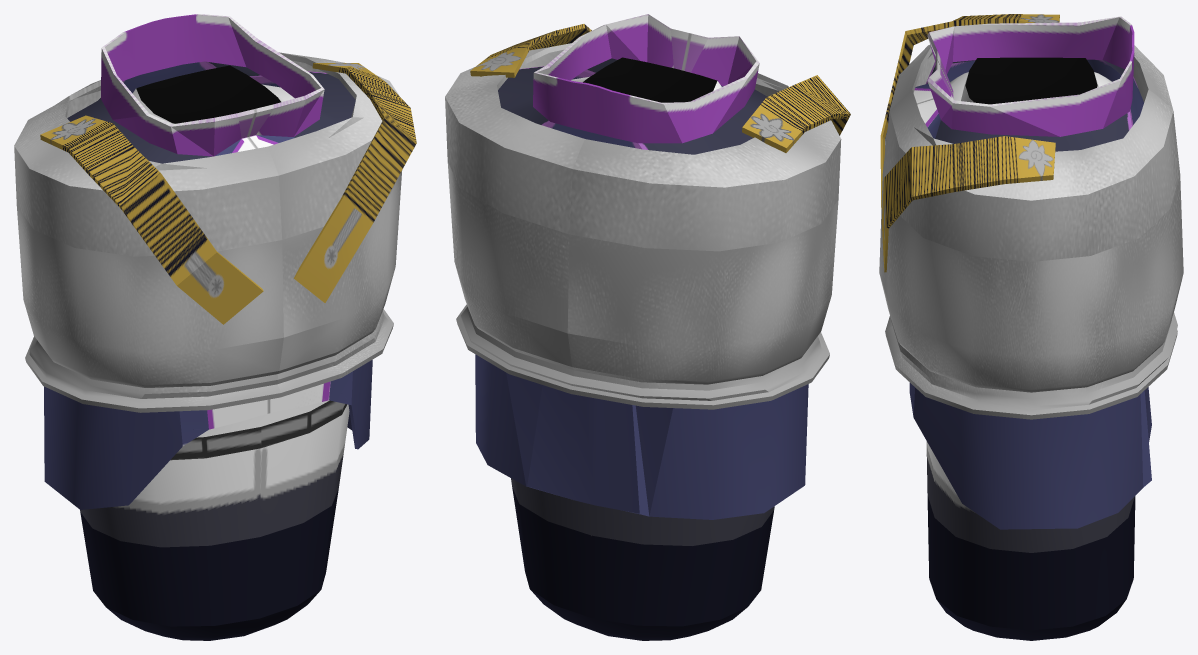
Rendered from cuirassierBody.obj.
3 views of the same model, side by side, from view 1: azimuth 30°, elevation 25°; view 2: azimuth 150°, elevation 25°; view 3: azimuth 270°, elevation 25° (orthographic). The views are drawn at different scales.
Parts seen in each view (by area): view 1: cT; view 2: cT; view 3: cT.
Boxes of the visible parts, <box> form: cT: <box>14,14,416,640</box>; cT: <box>445,14,850,640</box>; cT: <box>879,14,1183,640</box>.
Bounding box in the file's own units: 1.25 × 1.88 × 0.8967.
